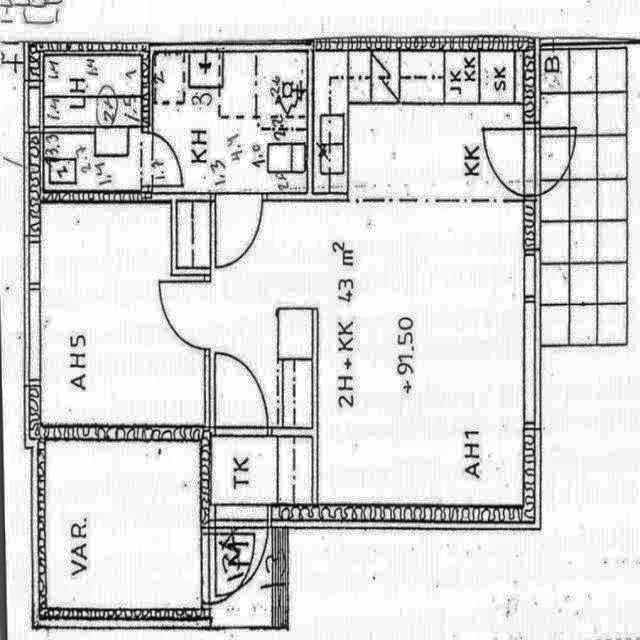room: (41, 203, 204, 426), (46, 439, 201, 609), (153, 54, 307, 192), (44, 56, 141, 190), (210, 438, 312, 504)
